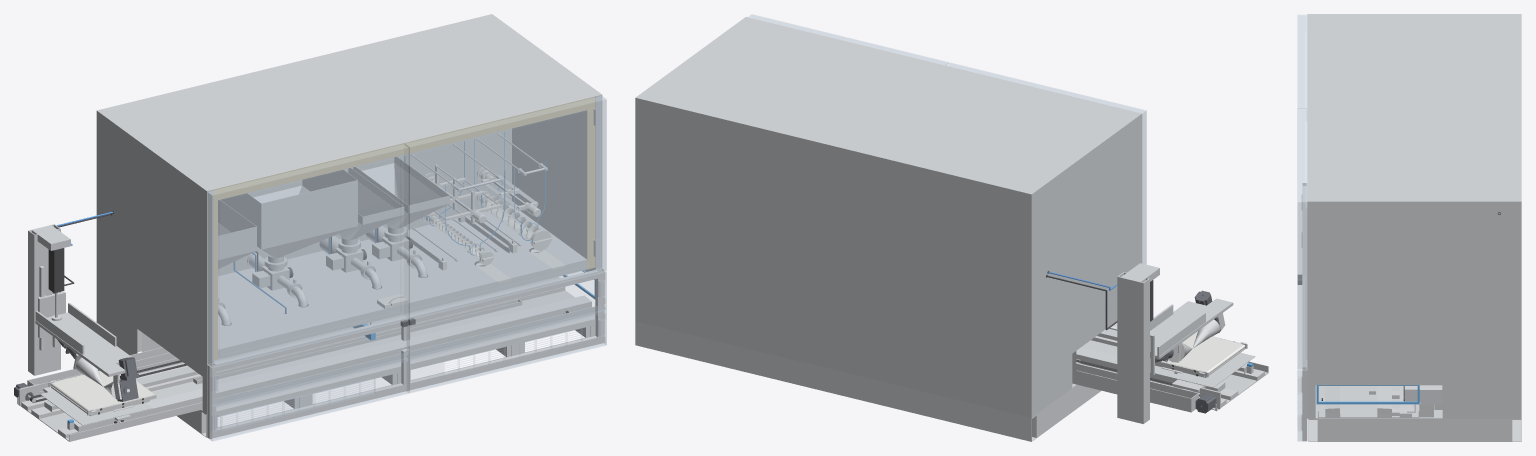
The model's file is modul_C.glb.
3 renders of one model, left to right at view 1: azimuth 30°, elevation 25°; view 2: azimuth 150°, elevation 25°; view 3: azimuth 270°, elevation 25°, orthographic. The views are drawn at different scales.
Visible parts, largest first — view 1: TOPPING_MODUL__on_seffaf, TOPPING_MODUL__sac, TOPPING_MODUL__paslanmaz, TOPPING_MODUL__celik, TOPPING_MODUL__yalitim_gorunur, KAIDE_C__paslanmaz, TOPPING_MODUL__sac__ACICI, TOPPING_MODUL__pom, TOPPING_MODUL__bant__TABLA, TOPPING_MODUL__sac__ARABA, TOPPING_MODUL__koyu, TOPPING_MODUL__silikon (+7 smaller); view 2: TOPPING_MODUL__sac, KAIDE_C__paslanmaz, TOPPING_MODUL__sac__ACICI, TOPPING_MODUL__on_seffaf, TOPPING_MODUL__bant__TABLA, TOPPING_MODUL__sac__ARABA, TOPPING_MODUL__celik; view 3: TOPPING_MODUL__sac, KAIDE_C__paslanmaz, TOPPING_MODUL__on_seffaf, TOPPING_MODUL__celik, TOPPING_MODUL__silikon.
Boxes of the visible parts, x1,y1,x2,y2 form: TOPPING_MODUL__on_seffaf: [207, 96, 606, 441]; TOPPING_MODUL__sac: [17, 14, 602, 441]; TOPPING_MODUL__paslanmaz: [214, 108, 595, 360]; TOPPING_MODUL__celik: [21, 133, 604, 438]; TOPPING_MODUL__yalitim_gorunur: [214, 97, 595, 359]; KAIDE_C__paslanmaz: [137, 319, 595, 437]; TOPPING_MODUL__sac__ACICI: [35, 291, 131, 376]; TOPPING_MODUL__pom: [377, 167, 565, 308]; TOPPING_MODUL__bant__TABLA: [51, 371, 154, 412]; TOPPING_MODUL__sac__ARABA: [40, 390, 152, 425]; TOPPING_MODUL__koyu: [30, 211, 568, 423]; TOPPING_MODUL__silikon: [67, 132, 595, 423]; TOPPING_MODUL__sac: [635, 17, 1268, 423]; KAIDE_C__paslanmaz: [635, 321, 1101, 441]; TOPPING_MODUL__sac__ACICI: [1150, 298, 1233, 375]; TOPPING_MODUL__on_seffaf: [748, 14, 1146, 328]; TOPPING_MODUL__bant__TABLA: [1162, 333, 1245, 374]; TOPPING_MODUL__sac__ARABA: [1155, 352, 1255, 387]; TOPPING_MODUL__celik: [1076, 336, 1264, 406]; TOPPING_MODUL__sac: [1307, 14, 1521, 418]; KAIDE_C__paslanmaz: [1308, 418, 1521, 441]; TOPPING_MODUL__on_seffaf: [1297, 15, 1307, 441]; TOPPING_MODUL__celik: [1301, 183, 1442, 441]; TOPPING_MODUL__silikon: [1316, 385, 1419, 404].
Size of the model in its own units: 2.41 by 1.07 by 0.909.
